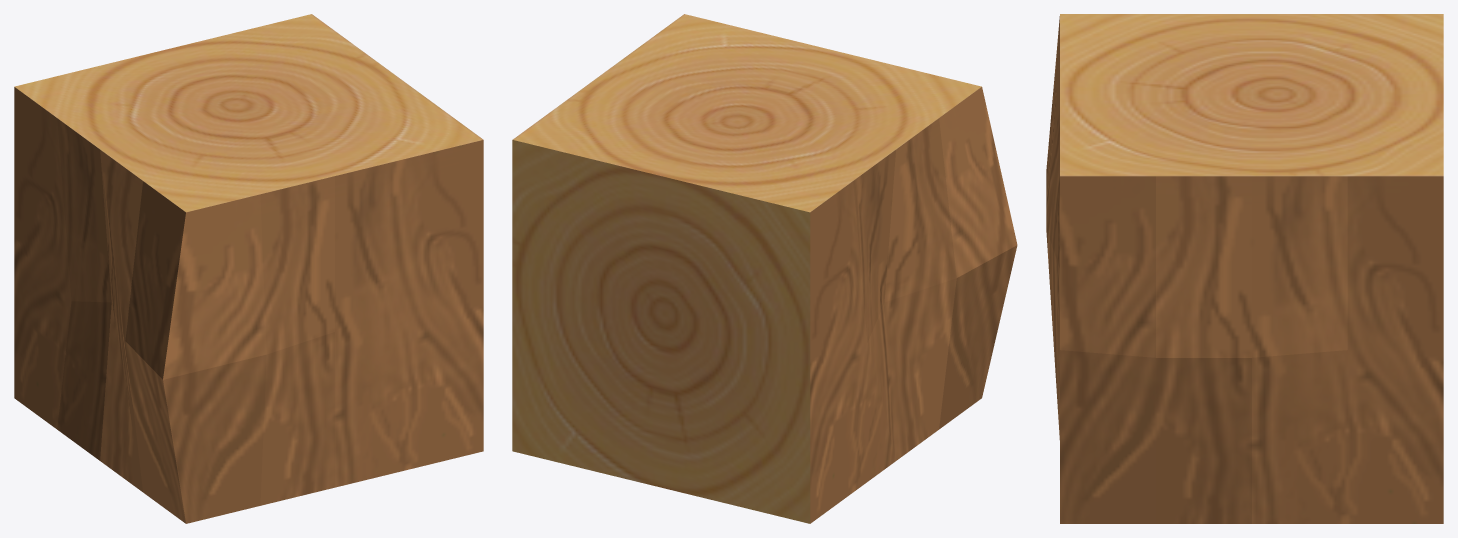
The model's file is TreeLeft.fbx.
The picture shows the model from 3 angles, left to right: view 1: azimuth 30°, elevation 25°; view 2: azimuth 150°, elevation 25°; view 3: azimuth 270°, elevation 25°; orthographic projection. The views are drawn at different scales.
Parts seen in each view (by area): view 1: TreeLeft; view 2: TreeLeft; view 3: TreeLeft.
Part boxes in pixels (x1,y1,x2,y2): TreeLeft: (14, 14, 483, 523); TreeLeft: (512, 14, 1017, 523); TreeLeft: (1046, 14, 1443, 523).
Bounding box in the file's own units: 229 × 200 × 207.
Materials: 1 (1 with a texture image).
